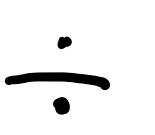div: (6, 36, 107, 113)
